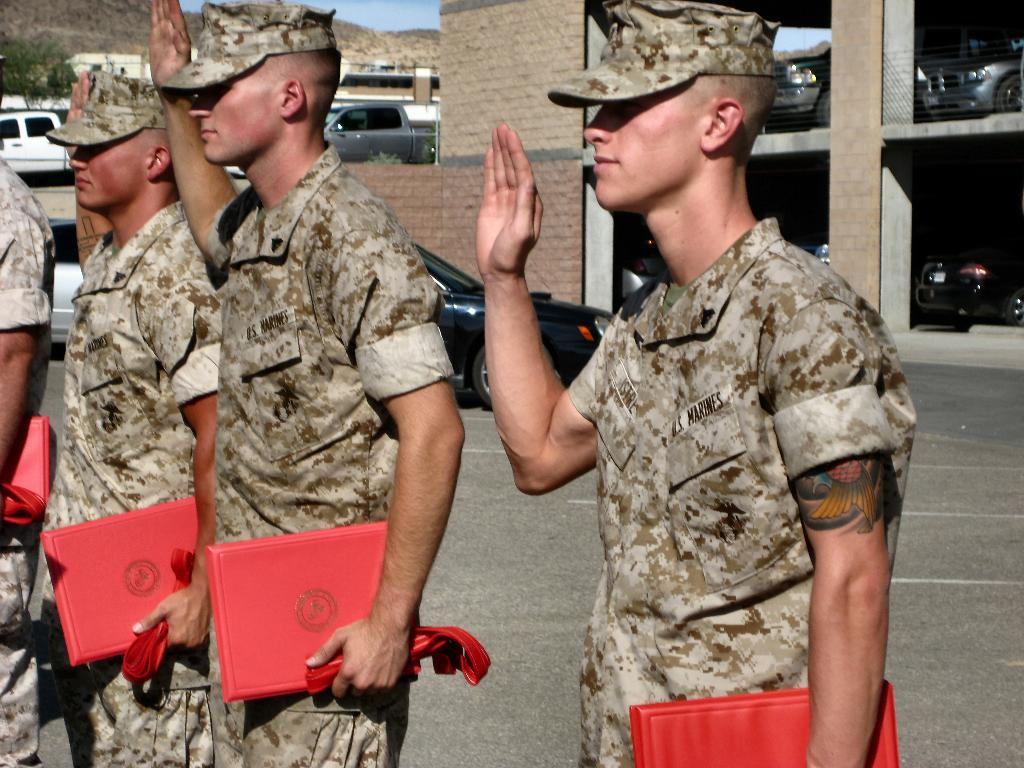Hat: (544, 0, 786, 113), (141, 8, 341, 116), (44, 68, 166, 146)
